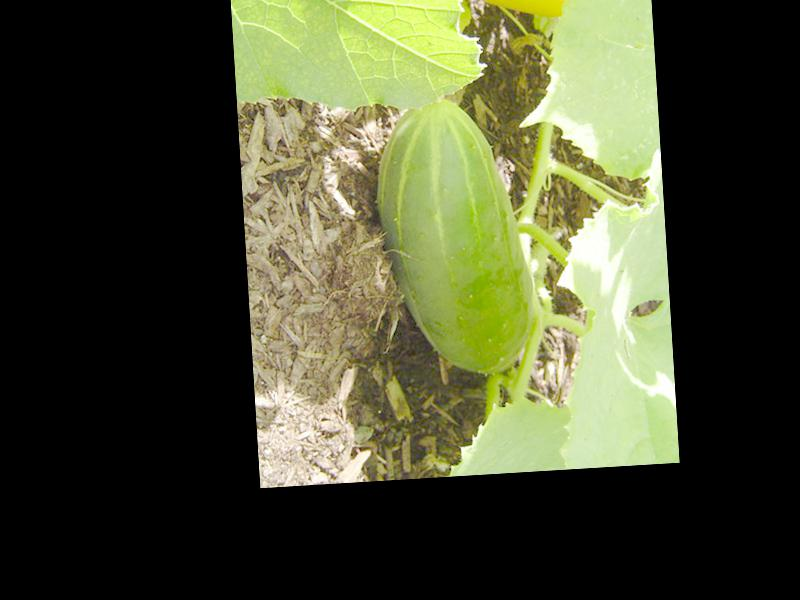Cucumber: (370, 93, 539, 381)
